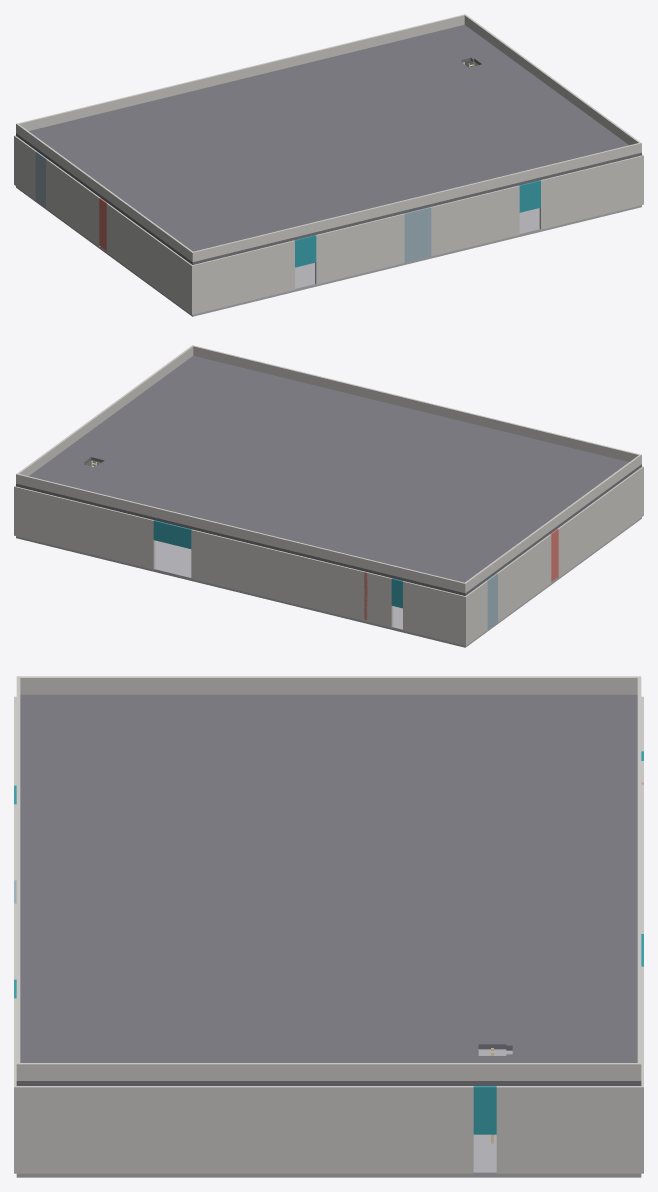
The model's file is arena_a02.glb.
The picture shows the model from 3 angles, top to bottom: view 1: azimuth 30°, elevation 25°; view 2: azimuth 150°, elevation 25°; view 3: azimuth 270°, elevation 25°; orthographic projection. The views are drawn at different scales.
Visible parts, largest first — view 1: slab_1_t2_8, slab_1_t4_8, slab_1_t2_5, slab_1_t5_6, slab_1_t5_7, slab_1_t1_2, slab_1_t1_4, slab_1_t1_7, slab_1_t2_1, slab_1_t2_2, slab_1_t2_3, slab_1_t2_4 (+121 smaller); view 2: slab_1_t2_8, slab_1_t4_8, slab_1_t1_6, slab_1_t1_7, slab_1_t4_5, slab_1_t1_1, slab_1_t1_5, slab_1_t2_5, slab_1_t2_6, slab_1_t2_7, slab_1_t3_3, slab_1_t3_4 (+117 smaller); view 3: slab_1_t3_1, slab_1_t3_2, slab_1_t3_3, slab_1_t3_7, slab_1_t3_8, slab_1_t1_1, slab_1_t1_3, slab_1_t1_8, slab_1_t2_1, slab_1_t2_3, slab_1_t2_8, slab_1_t4_1 (+91 smaller).
Part boxes in pixels (x1,y1,x2,y2): slab_1_t2_8: (476, 108, 546, 137); slab_1_t4_8: (426, 71, 495, 100); slab_1_t2_5: (342, 141, 411, 170); slab_1_t5_6: (311, 75, 380, 104); slab_1_t5_7: (356, 64, 425, 93); slab_1_t1_2: (232, 192, 301, 221); slab_1_t1_4: (322, 170, 391, 199); slab_1_t1_7: (457, 137, 526, 166); slab_1_t2_1: (162, 185, 231, 214); slab_1_t2_2: (207, 174, 276, 203); slab_1_t2_3: (252, 163, 321, 192); slab_1_t2_4: (297, 152, 366, 181); slab_1_t2_8: (162, 402, 231, 431); slab_1_t4_8: (111, 439, 181, 468); slab_1_t1_6: (277, 406, 346, 435); slab_1_t1_7: (232, 395, 301, 424); slab_1_t4_5: (246, 472, 315, 501); slab_1_t1_1: (502, 461, 571, 489); slab_1_t1_5: (322, 417, 391, 446); slab_1_t2_5: (297, 435, 366, 464); slab_1_t2_6: (252, 424, 321, 453); slab_1_t2_7: (207, 413, 276, 442); slab_1_t3_3: (362, 475, 430, 504); slab_1_t3_4: (316, 464, 385, 493); slab_1_t3_1: (284, 731, 373, 770); slab_1_t3_2: (284, 770, 373, 809); slab_1_t3_3: (284, 809, 373, 848); slab_1_t3_7: (284, 964, 373, 1003); slab_1_t3_8: (284, 1003, 373, 1042); slab_1_t1_1: (106, 731, 195, 770); slab_1_t1_3: (106, 809, 195, 848); slab_1_t1_8: (106, 1003, 195, 1042); slab_1_t2_1: (195, 731, 284, 770); slab_1_t2_3: (195, 809, 284, 848); slab_1_t2_8: (195, 1003, 284, 1042); slab_1_t4_1: (373, 731, 462, 770).
Size of what is drawn, in the model's own units: 50.3 by 6.8 by 34.3.
